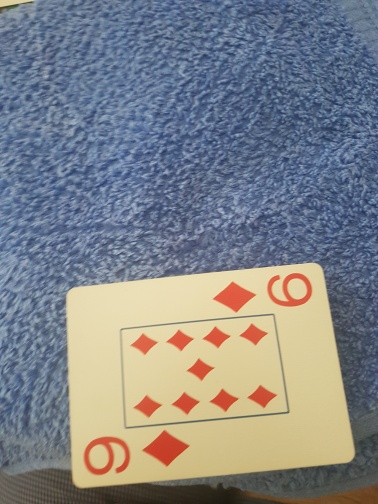nine: (66, 263, 353, 488)
